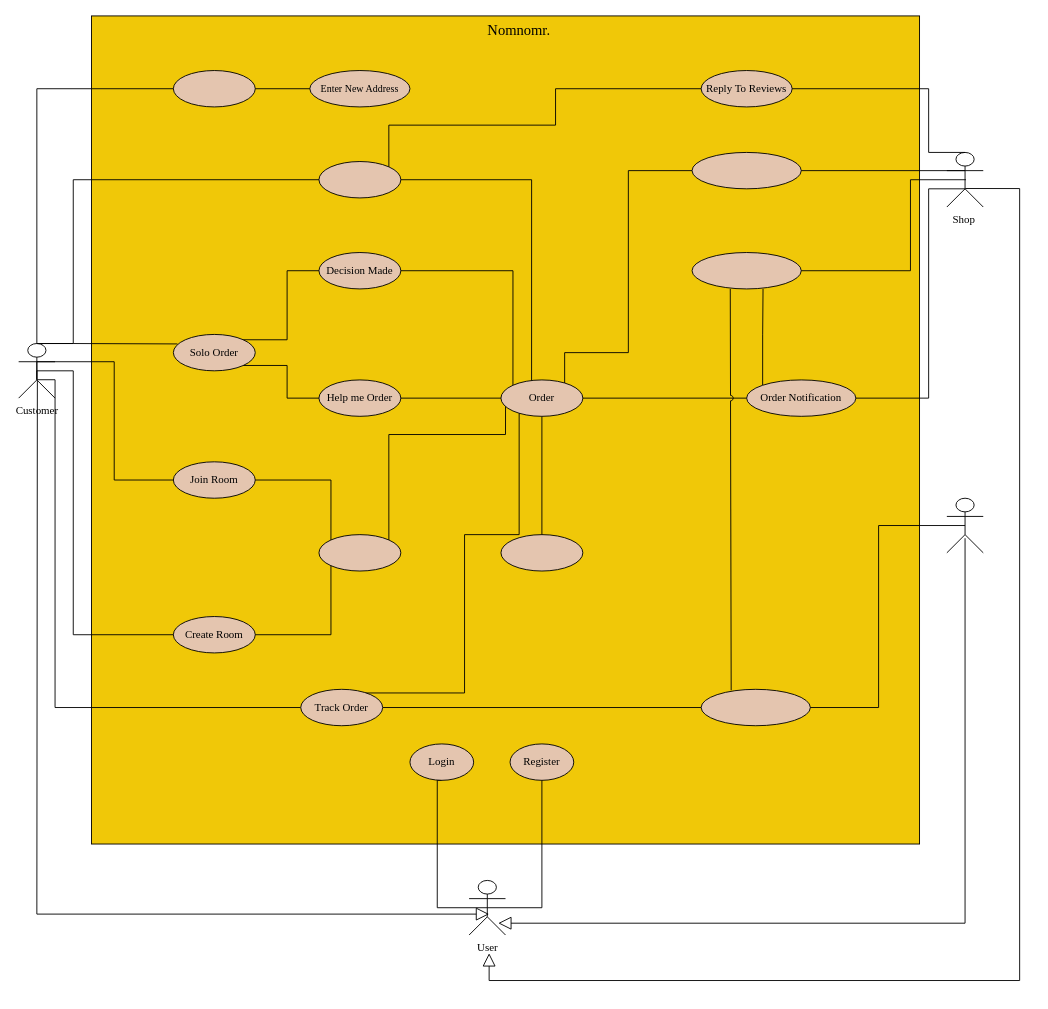
Some shapes in this 1048 by 1009 pixel diagram are drawn without their labels. The shapes that lost their labels are listed below. From the top down, each one's box as (x1, y1, x2, y2) in pixels, then its label:
(172, 70, 255, 107): Select Address
(318, 161, 401, 198): Review
(691, 152, 801, 189): Edit Shop Information
(691, 252, 801, 289): Order Delivery Assignment
(946, 497, 983, 553): Delivery Person
(318, 534, 401, 571): Decide Shop
(500, 534, 583, 571): Payment
(700, 688, 810, 726): Delivery of Assigned Order(s)
